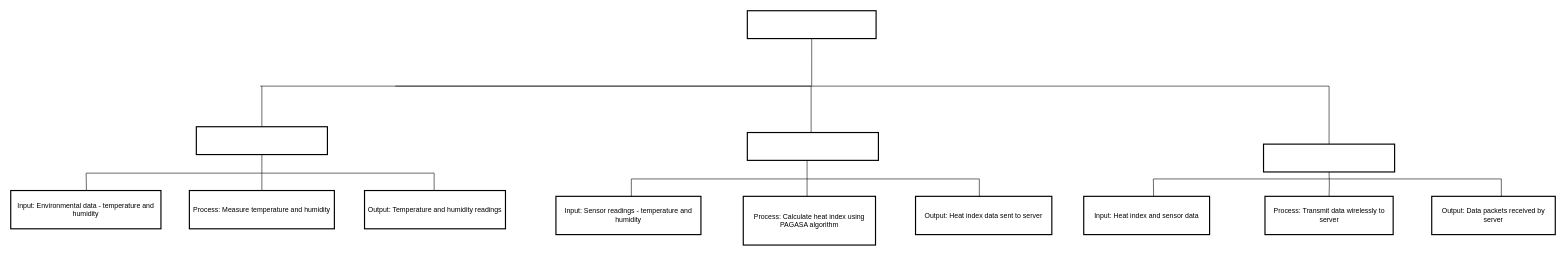
The diagram is 1565 pixels wide and 255 high, and some of its shapes have lost their labels. Here are the shapes that lost their labels. From the top down, the centre of each, then its label:
pixel 811 24: Hardware Components
pixel 261 140: Sensors Module
pixel 812 146: Microcontroller Module
pixel 1329 157: Data Transmission Module
